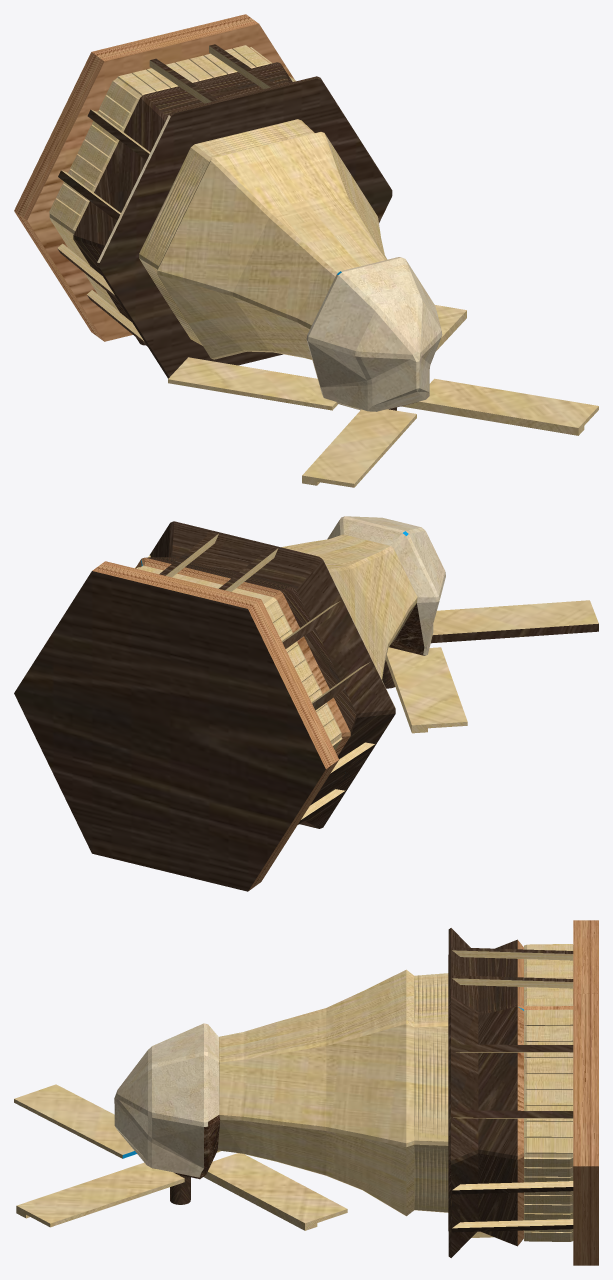
Rendered from windmill.obj.
The picture shows the model from 3 angles, top to bottom: view 1: azimuth 30°, elevation 25°; view 2: azimuth 150°, elevation 25°; view 3: azimuth 270°, elevation 25°; orthographic projection. The views are drawn at different scales.
Visible parts, largest first — view 1: Object.2, Object.3; view 2: Object.2, Object.3; view 3: Object.2, Object.3, Object.1.
Part boxes in pixels (x1,y1,x2,y2): Object.2: (14,14,442,411); Object.3: (168,305,598,487); Object.2: (14,516,445,891); Object.3: (385,600,598,733); Object.2: (114,920,598,1265); Object.3: (14,1084,347,1230); Object.1: (170,1174,190,1204).
Bounding box in the file's own units: 66.06 × 57.2 × 111.
7 materials, 6 textured.
